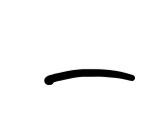minus: (45, 69, 135, 85)
